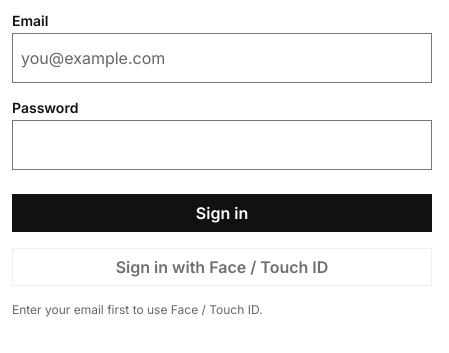
Scenario: LoginForm › maps a passkey SecurityError to an availability message
Type "a@b.com" into the field with placeholder "you@example.com". click: (222, 58)
box: x1=12 y1=33 x2=432 y2=83
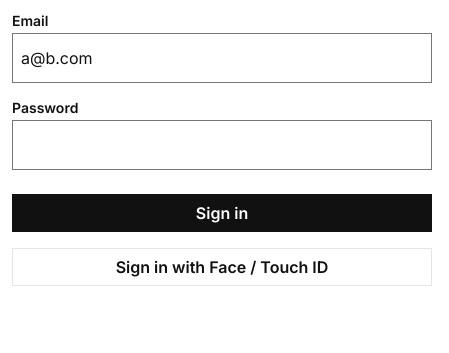
Click the button "Sign in with Face / Touch ID". click: (222, 267)
box: x1=12 y1=248 x2=432 y2=286
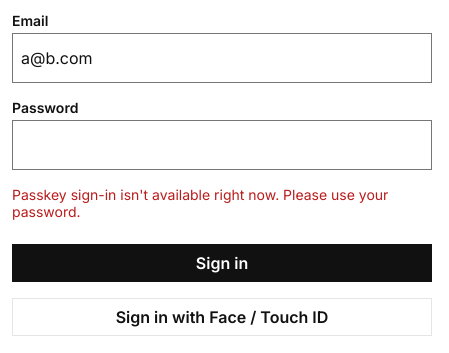
Check: the message "Passkey sign-in isn't available right now. Please use your password." is shown, box x1=12 y1=186 x2=432 y2=220
Check: the message shows "isn't available right now", box x1=12 y1=186 x2=388 y2=220
